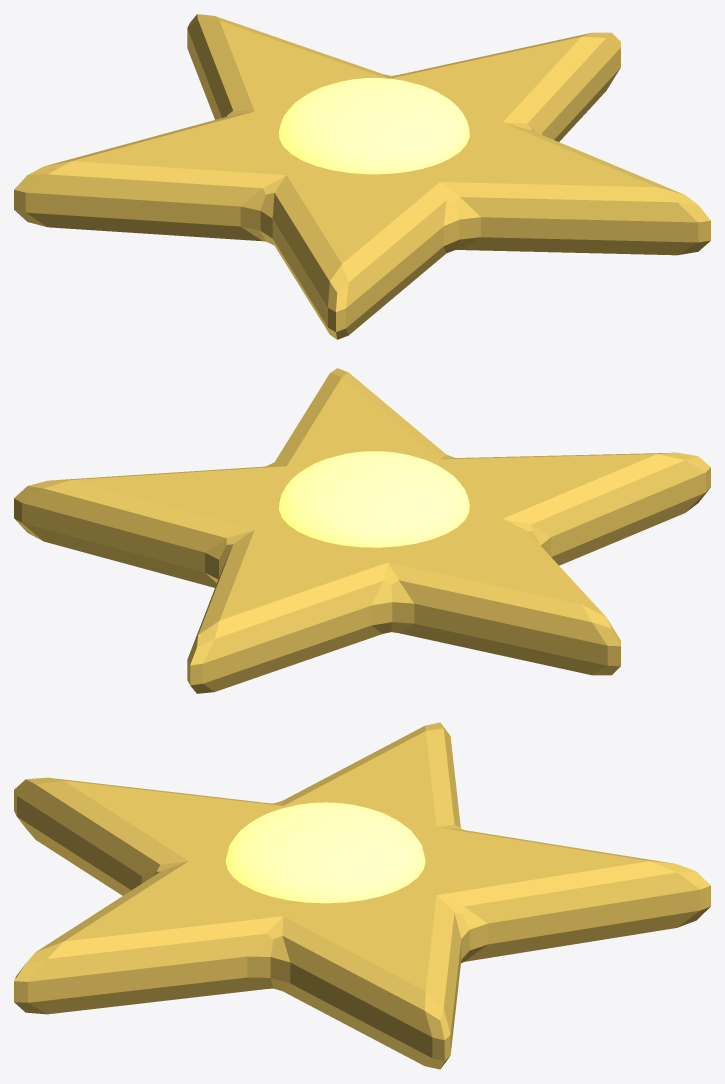
Rendered from SM_Pickup_Power.fbx.
The picture shows the model from 3 angles, top to bottom: view 1: azimuth 30°, elevation 25°; view 2: azimuth 150°, elevation 25°; view 3: azimuth 270°, elevation 25°; orthographic projection. The views are drawn at different scales.
Parts seen in each view (by area): view 1: SM_Pickup_Power; view 2: SM_Pickup_Power; view 3: SM_Pickup_Power.
Boxes of the visible parts, x1,y1,x2,y2 form: SM_Pickup_Power: [14, 14, 710, 339]; SM_Pickup_Power: [14, 368, 710, 693]; SM_Pickup_Power: [14, 722, 710, 1069].
Bounding box in the file's own units: 0.9526 × 0.1585 × 0.906.
